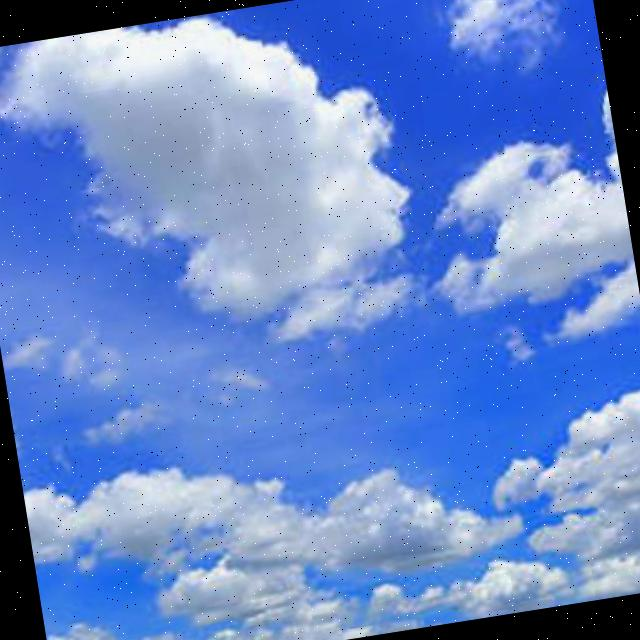Cu: (1, 9, 640, 640)
